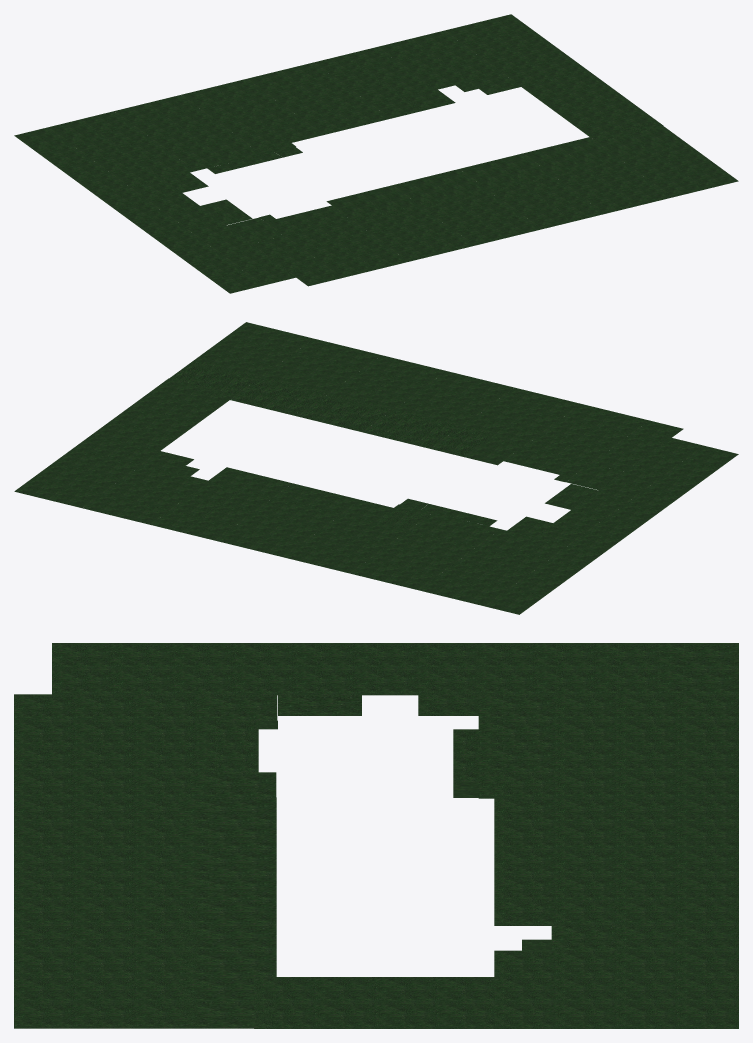
The model's file is grass.fbx.
3 views of the same model, one above another, from view 1: azimuth 30°, elevation 25°; view 2: azimuth 150°, elevation 25°; view 3: azimuth 270°, elevation 25° (orthographic). The views are drawn at different scales.
Parts seen in each view (by area): view 1: Plane.092, Plane.093, Plane.101, Plane.085, Plane.108, Plane.084, Plane.100, Plane.268, Plane.077, Plane.249, Plane.256, Plane.109 (+122 smaller); view 2: Plane.101, Plane.093, Plane.085, Plane.092, Plane.108, Plane.084, Plane.100, Plane.109, Plane.077, Plane.256, Plane.249, Plane.068 (+124 smaller); view 3: Plane.093, Plane.085, Plane.092, Plane.108, Plane.084, Plane.268, Plane.101, Plane.077, Plane.109, Plane.249, Plane.256, Plane.068 (+125 smaller).
Boxes of the visible parts, bbox=[...] form: Plane.092: bbox=[425, 169, 489, 199]; Plane.093: bbox=[459, 160, 522, 191]; Plane.101: bbox=[523, 145, 586, 175]; Plane.085: bbox=[392, 177, 455, 207]; Plane.108: bbox=[557, 137, 619, 167]; Plane.084: bbox=[360, 185, 422, 215]; Plane.100: bbox=[493, 153, 552, 183]; Plane.268: bbox=[623, 121, 686, 151]; Plane.077: bbox=[326, 193, 386, 220]; Plane.249: bbox=[14, 127, 72, 153]; Plane.256: bbox=[48, 119, 106, 145]; Plane.109: bbox=[590, 134, 653, 159]; Plane.101: bbox=[264, 385, 328, 416]; Plane.093: bbox=[329, 401, 393, 432]; Plane.085: bbox=[397, 418, 461, 448]; Plane.092: bbox=[363, 409, 427, 440]; Plane.108: bbox=[230, 377, 294, 407]; Plane.084: bbox=[431, 426, 493, 456]; Plane.100: bbox=[298, 394, 362, 423]; Plane.109: bbox=[196, 369, 260, 397]; Plane.077: bbox=[464, 437, 524, 465]; Plane.256: bbox=[452, 579, 510, 606]; Plane.249: bbox=[485, 588, 543, 614]; Plane.068: bbox=[566, 463, 624, 489]; Plane.093: bbox=[178, 875, 276, 901]; Plane.085: bbox=[178, 823, 276, 849]; Plane.092: bbox=[178, 849, 276, 875]; Plane.108: bbox=[178, 950, 276, 976]; Plane.084: bbox=[178, 797, 276, 823]; Plane.268: bbox=[178, 1002, 276, 1028]; Plane.101: bbox=[178, 925, 276, 950]; Plane.077: bbox=[190, 772, 276, 798]; Plane.109: bbox=[178, 977, 276, 1002]; Plane.249: bbox=[659, 643, 738, 669]; Plane.256: bbox=[657, 669, 738, 695]; Plane.068: bbox=[197, 694, 277, 720].
Bounding box in the file's own units: 34508 × 0.000602 × 27408.
Materials: 1 (1 with a texture image).
